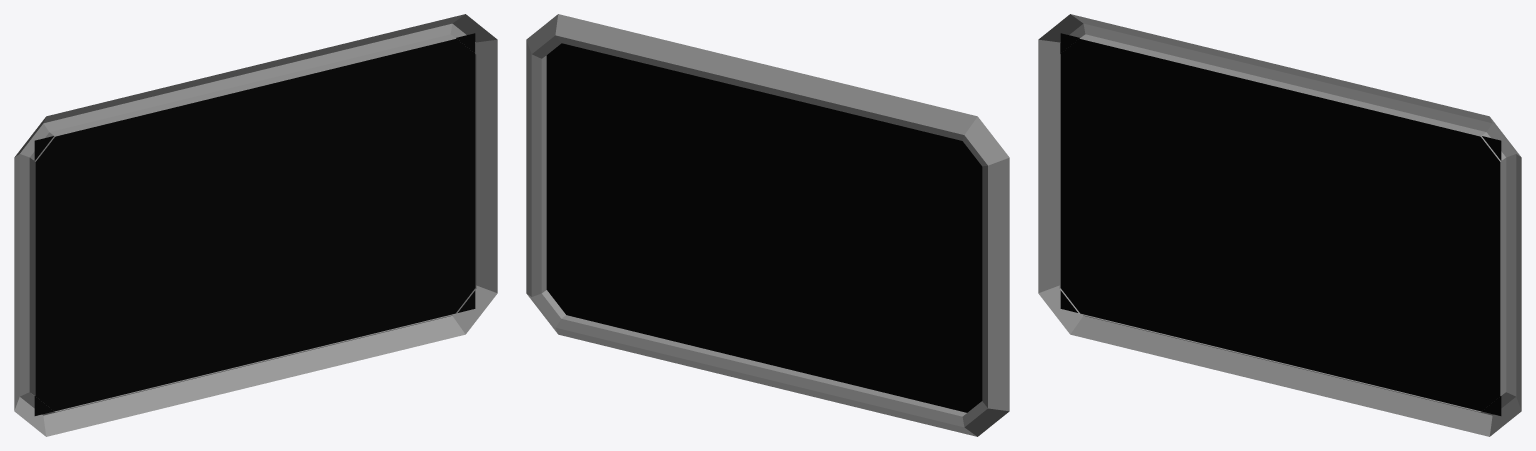
Rendered from Menu3D_Button_Long.glb.
3 views of the same model, side by side, from view 1: azimuth 30°, elevation 25°; view 2: azimuth 150°, elevation 25°; view 3: azimuth 330°, elevation 25° (orthographic).
Visible parts, largest first — view 1: MenuButton3D; view 2: MenuButton3D; view 3: MenuButton3D.
Part boxes in pixels (x1,y1,x2,y2): MenuButton3D: (14, 14, 497, 436); MenuButton3D: (526, 14, 1009, 436); MenuButton3D: (1038, 14, 1521, 436).
Bounding box in the file's own units: 2.73 × 1.73 × 0.0789.
Materials: 1 (1 with a texture image).
